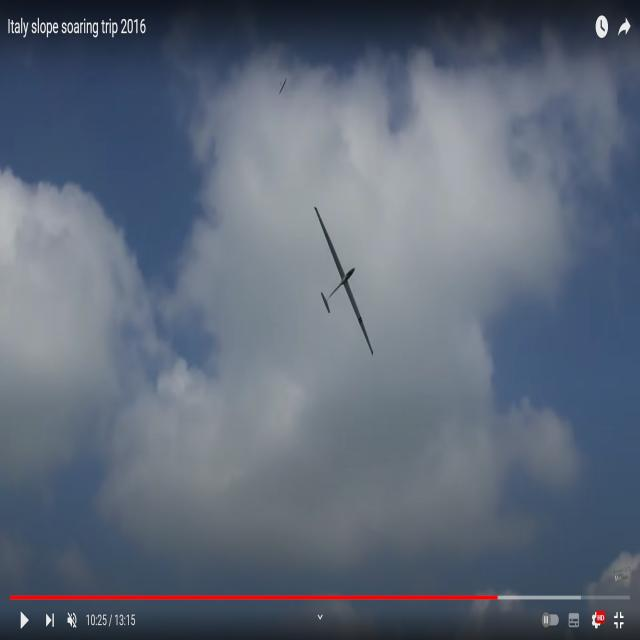iha: (313, 208, 374, 355)
